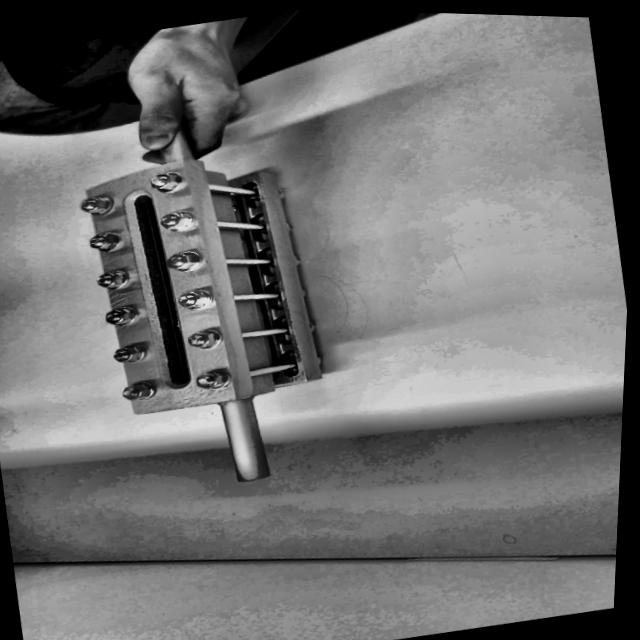ShuiWeiQi_12: (0, 107, 392, 534)
